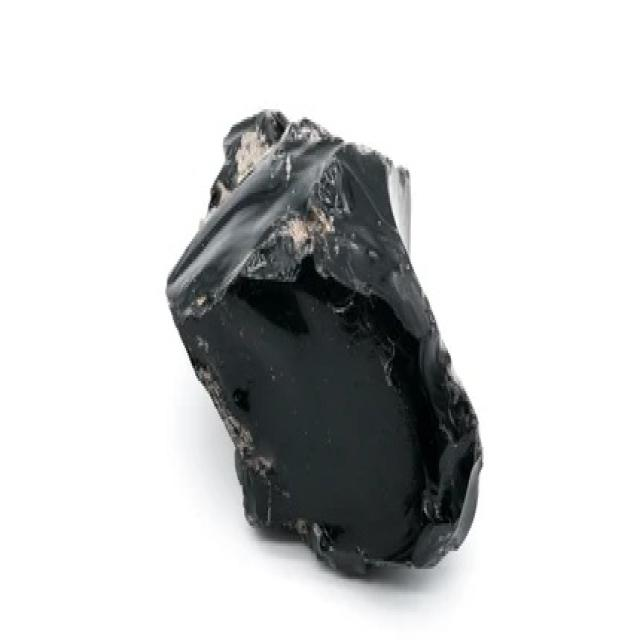Sedimentary: (161, 102, 527, 574)
